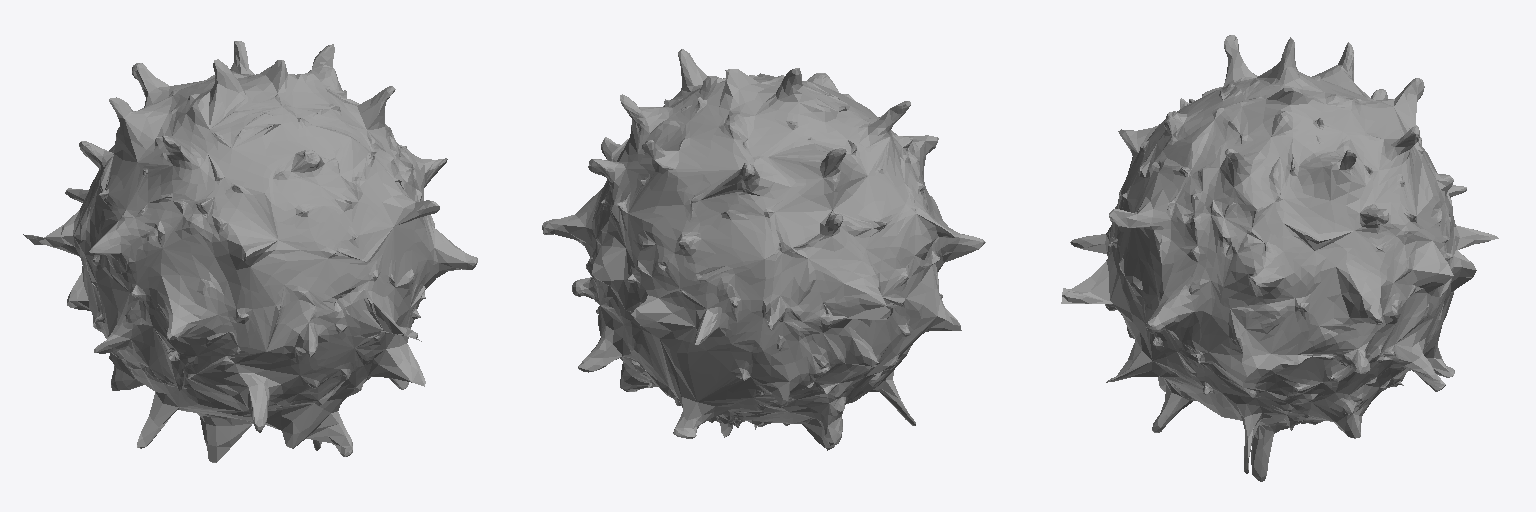
The model's file is virus2.obj.
The picture shows the model from 3 angles: view 1: azimuth 30°, elevation 25°; view 2: azimuth 150°, elevation 25°; view 3: azimuth 270°, elevation 25°; orthographic projection.
Parts seen in each view (by area): view 1: Low_Poly; view 2: Low_Poly; view 3: Low_Poly.
Part boxes in pixels (bbox=[...]): Low_Poly: bbox=[23, 41, 477, 462]; Low_Poly: bbox=[542, 49, 985, 450]; Low_Poly: bbox=[1061, 35, 1498, 481].
Size of the model in its own units: 7.93 by 8.51 by 8.39.